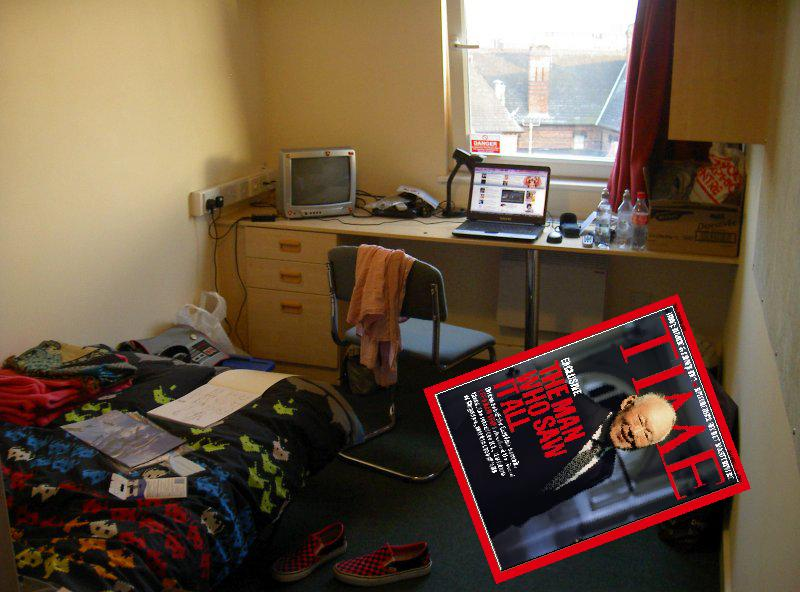times: (421, 293, 747, 592)
